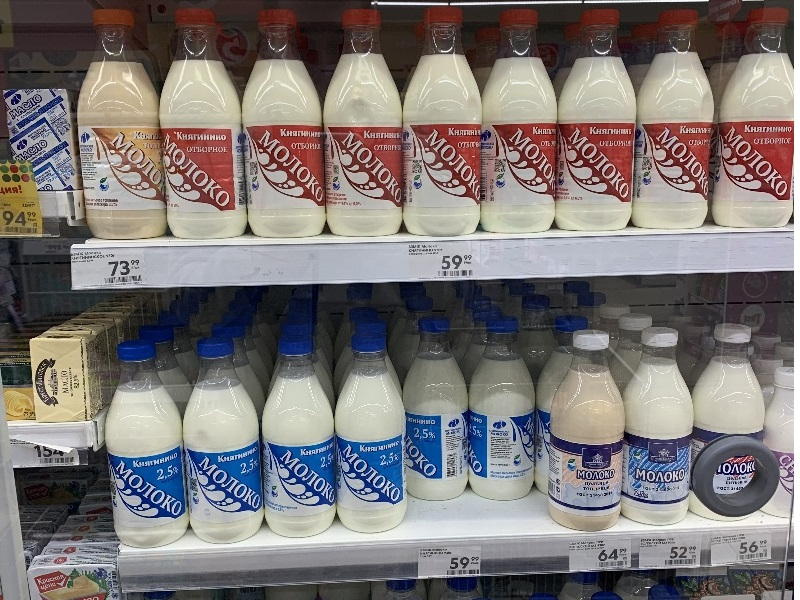milk: (58, 3, 173, 251), (153, 5, 254, 251), (231, 5, 332, 243), (313, 6, 407, 247), (398, 3, 485, 248), (630, 6, 718, 242), (709, 7, 798, 240), (473, 6, 558, 242), (549, 3, 635, 236), (105, 342, 196, 561), (176, 338, 265, 553), (254, 337, 341, 545), (330, 332, 411, 543), (543, 330, 625, 536), (620, 326, 698, 534), (465, 313, 540, 505), (402, 316, 473, 507)
